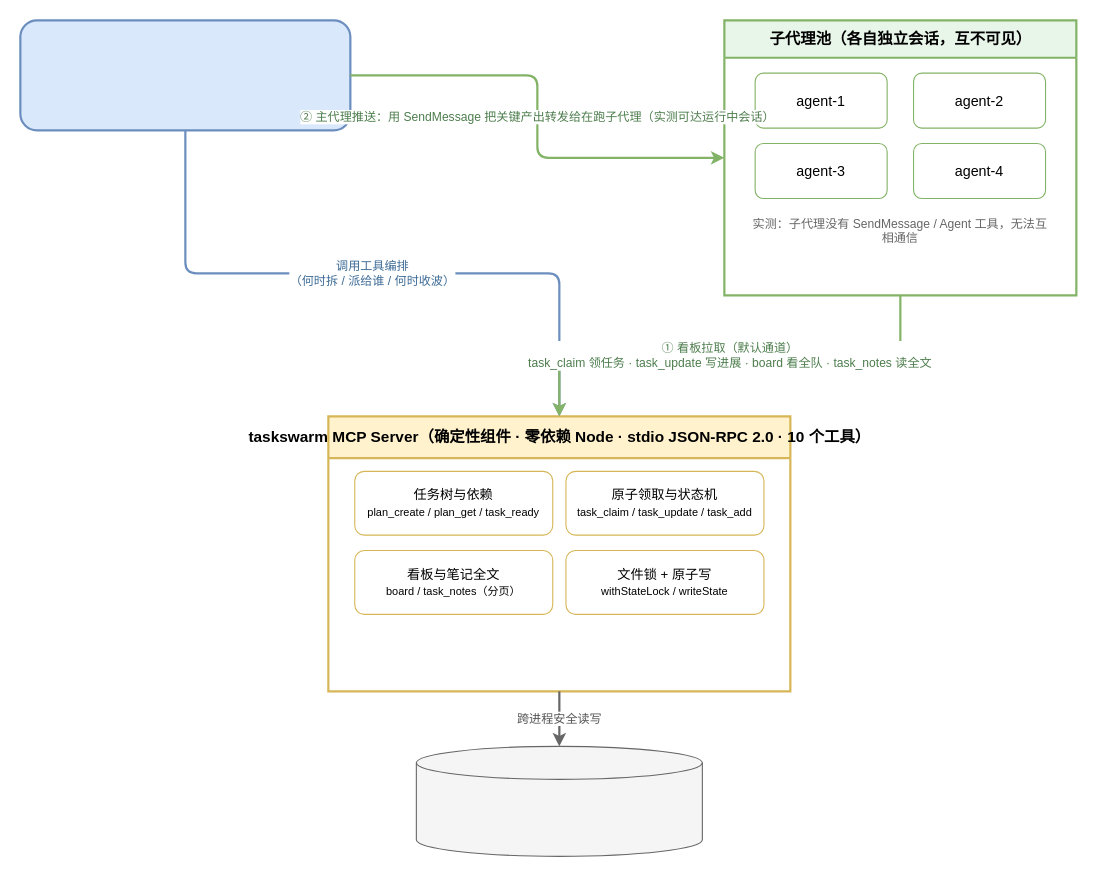
Image size: 1096x876. Some labels were removed from this diagram. Here are the shapes that lost their labels. From the top down, the centre of each, then its label:
(x=185, y=75): 主代理（编排循环） 拆解 → 波次派发 → 收波转发 → 汇总
(x=558, y=800): 状态文件 swarm-state.json + .lock （原子替换 · 损坏自动备份）
